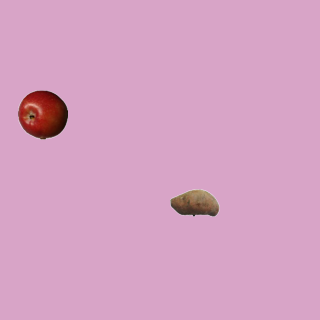Apple Braeburn: (17, 89, 67, 139)
Potato Sweet: (169, 177, 219, 227)
